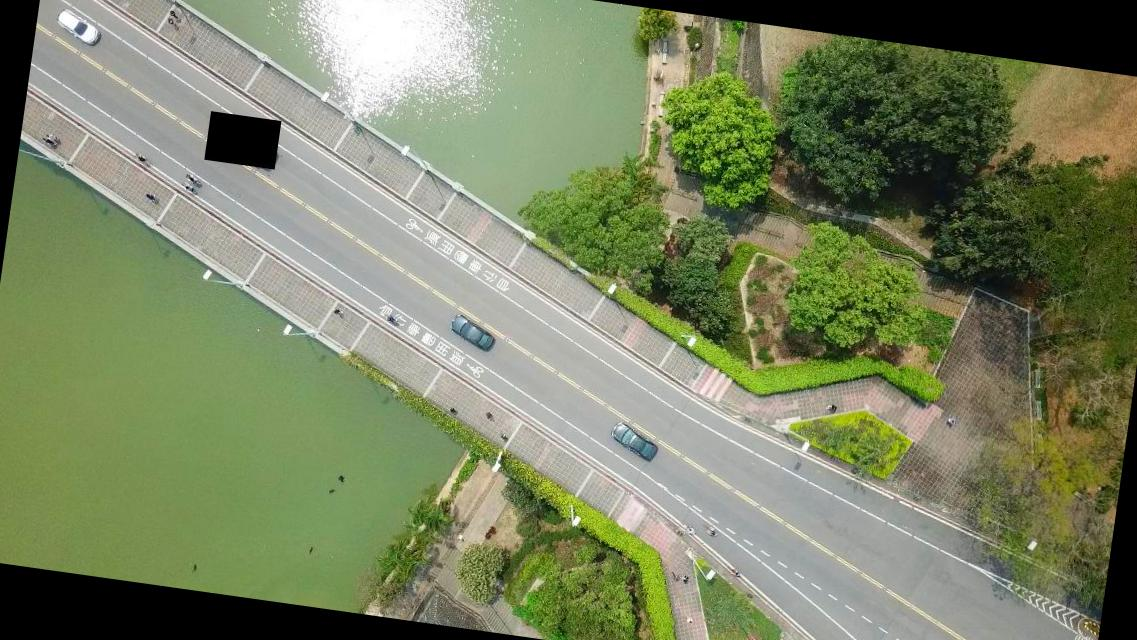vehicle: (607, 420, 660, 462), (448, 312, 497, 354), (54, 9, 103, 46)
